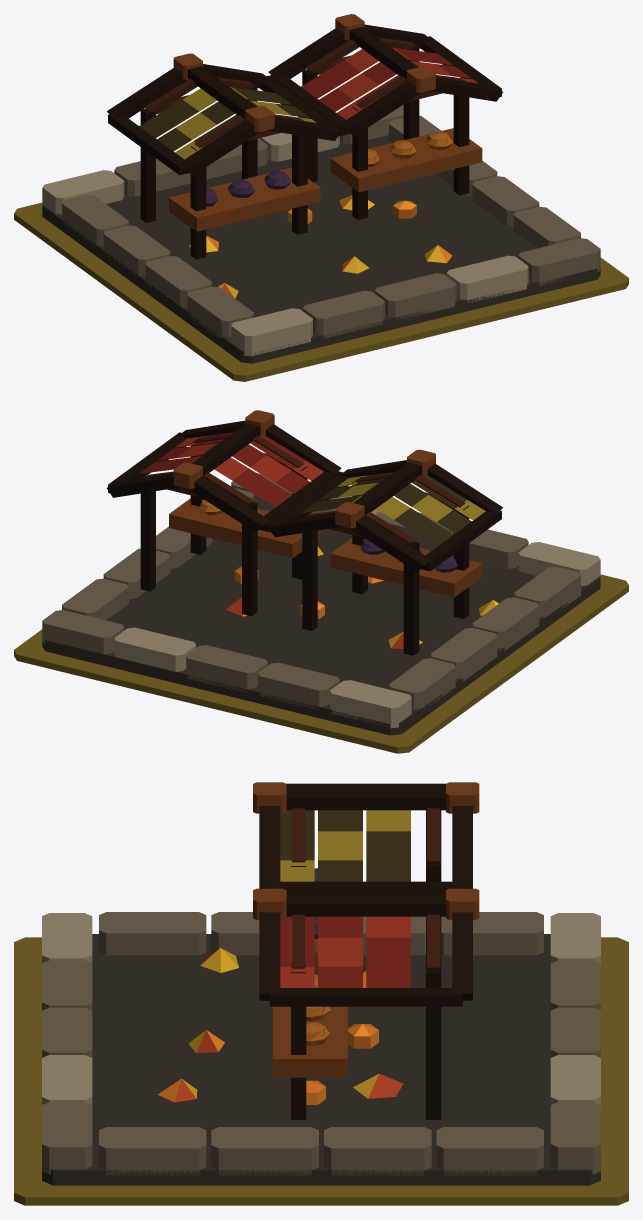
Rendered from market_t2.glb.
3 renders of one model, top to bottom at view 1: azimuth 30°, elevation 25°; view 2: azimuth 150°, elevation 25°; view 3: azimuth 270°, elevation 25°, orthographic. The views are drawn at different scales.
Parts seen in each view (by area): view 1: MMR | market | T02 Architecture.001, MMR | market | Tier 02 Ground.001, MMR | market | T02 Autumn Dressing.001; view 2: MMR | market | T02 Architecture.001, MMR | market | Tier 02 Ground.001, MMR | market | T02 Autumn Dressing.001; view 3: MMR | market | T02 Architecture.001, MMR | market | Tier 02 Ground.001, MMR | market | T02 Autumn Dressing.001.
Boxes of the visible parts, box(x1,y1,x2,y2) form: MMR | market | T02 Architecture.001: box(42, 14, 600, 363); MMR | market | Tier 02 Ground.001: box(14, 202, 628, 381); MMR | market | T02 Autumn Dressing.001: box(188, 195, 452, 298); MMR | market | T02 Architecture.001: box(42, 410, 600, 735); MMR | market | Tier 02 Ground.001: box(14, 574, 628, 753); MMR | market | T02 Autumn Dressing.001: box(226, 546, 498, 648); MMR | market | T02 Architecture.001: box(42, 782, 600, 1185); MMR | market | Tier 02 Ground.001: box(14, 937, 628, 1205); MMR | market | T02 Autumn Dressing.001: box(158, 948, 403, 1104).
Size of the model in its own units: 3.3 by 1.39 by 3.3.
Materials: 1 (1 with a texture image).
